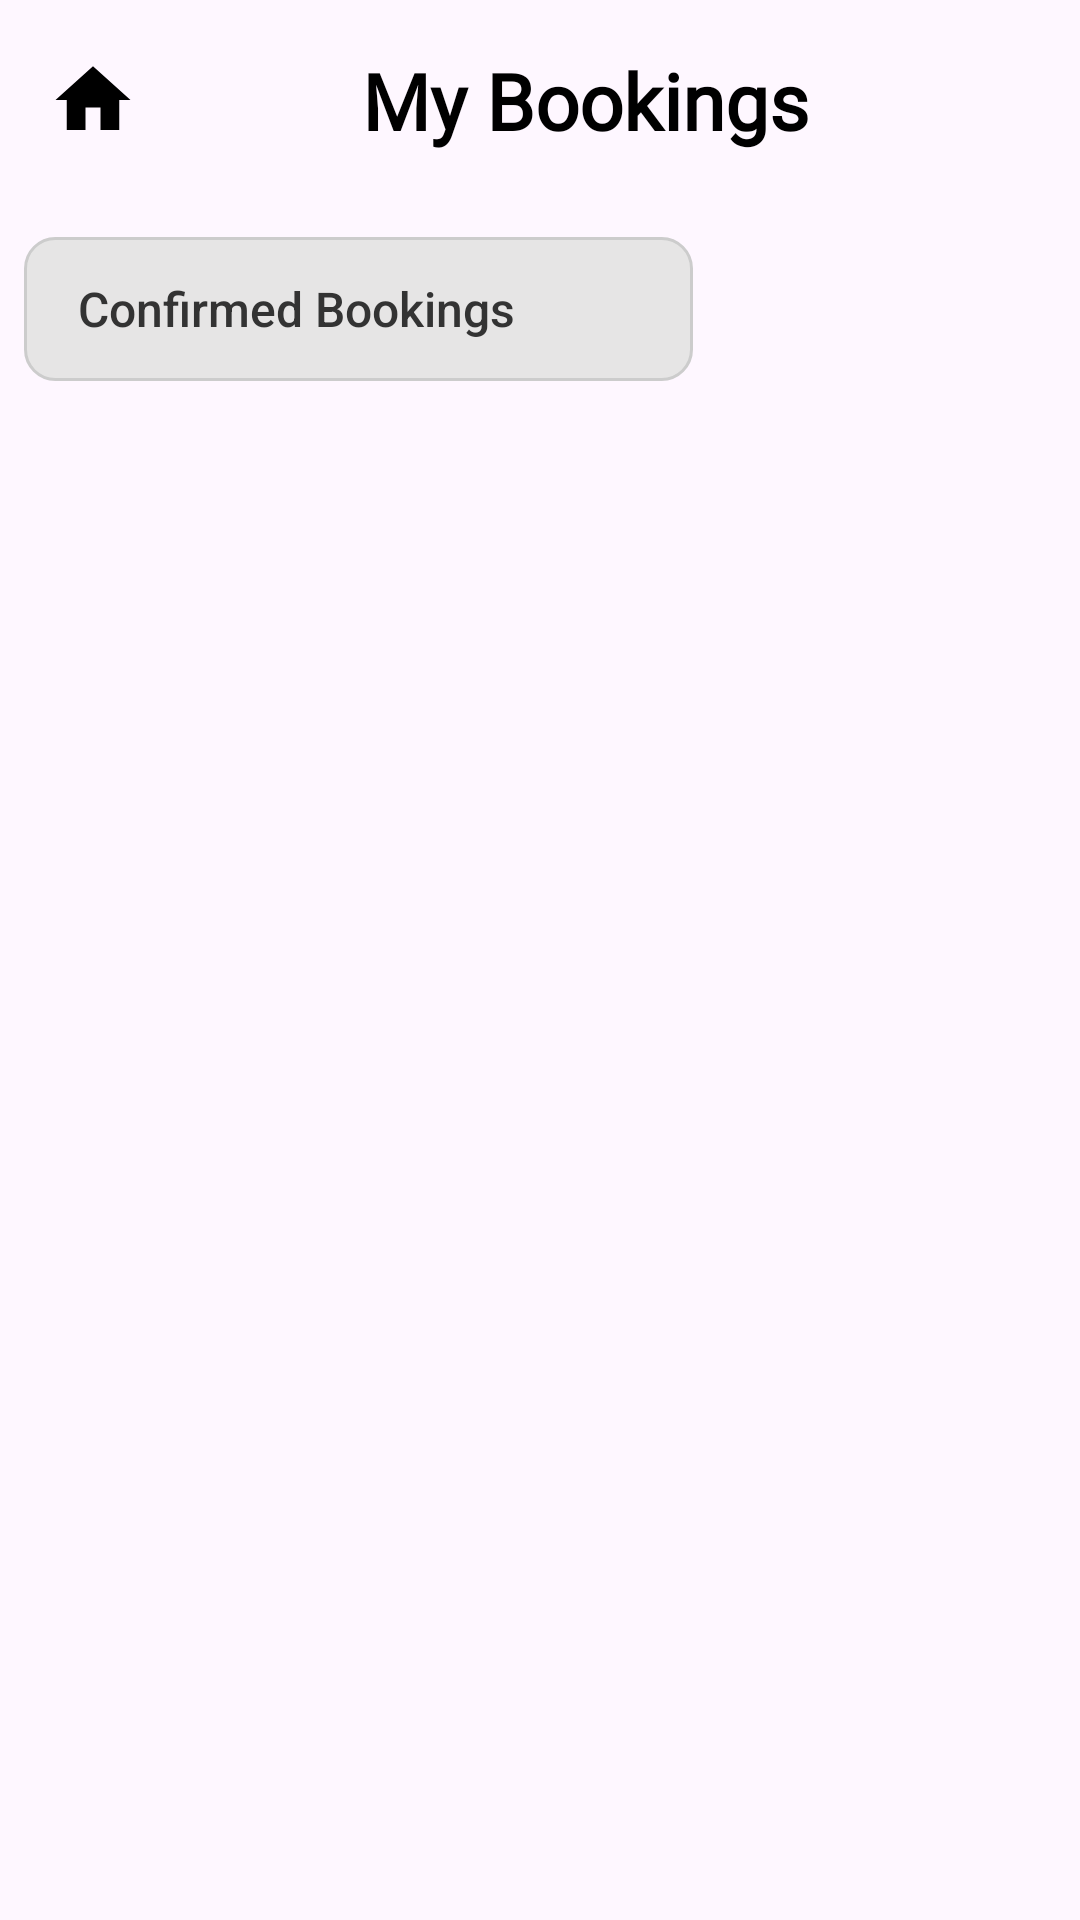

Screen size 1080x1920. Icon name, then its center in pixels as [x,y]:
Take me home: [93,98]
